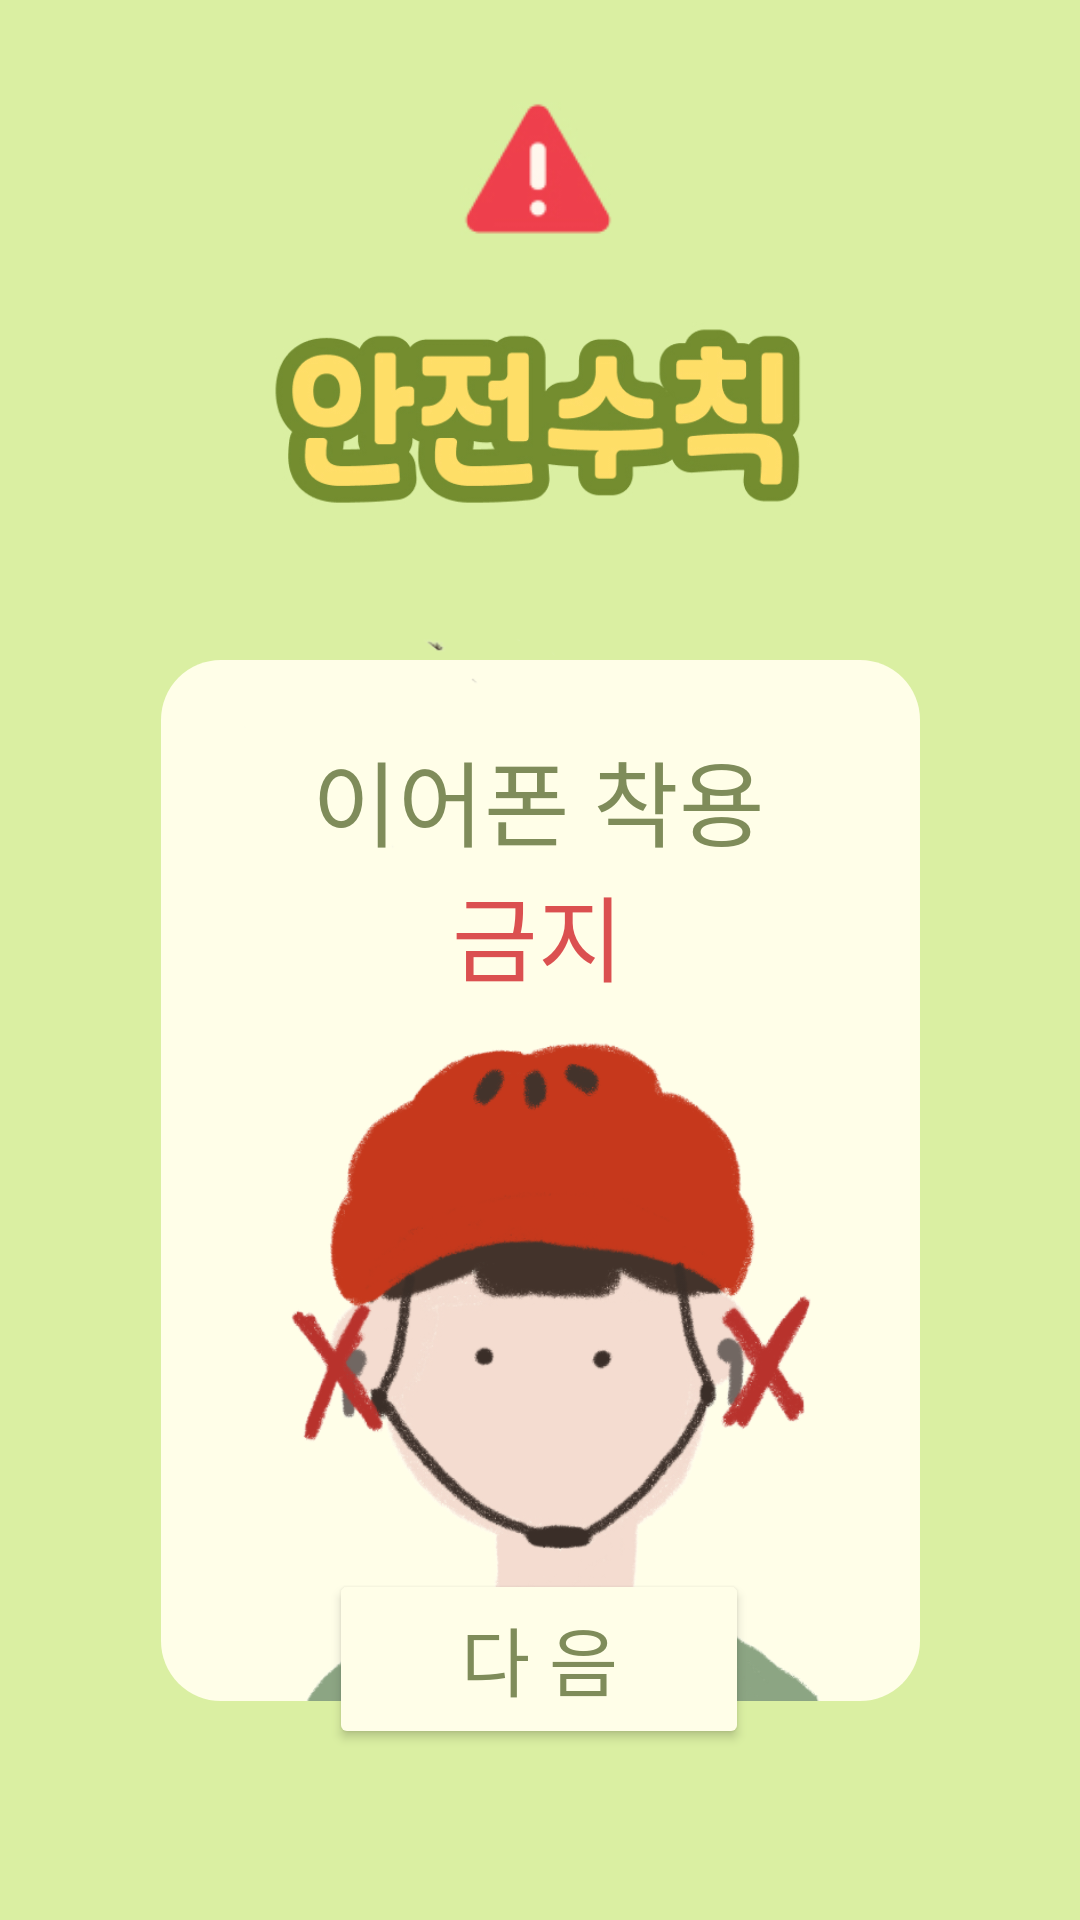

Named icons in this screenshot (1080w x 1920h) and their centers, (x=x, y=y):
warning: (x=538, y=169)
